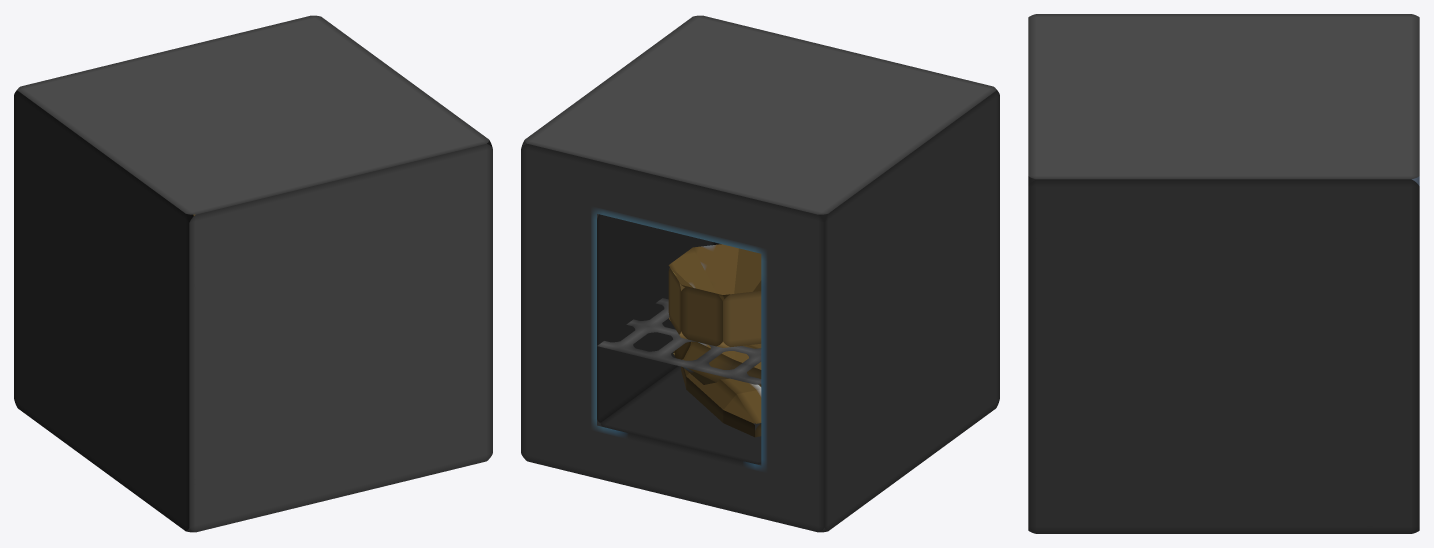
The model's file is Furnace.obj.
3 renders of one model, left to right at view 1: azimuth 30°, elevation 25°; view 2: azimuth 150°, elevation 25°; view 3: azimuth 270°, elevation 25°, orthographic. The views are drawn at different scales.
Parts seen in each view (by area): view 1: mesh; view 2: mesh, cylinder, beveled_cuboid, plane; view 3: mesh.
Part boxes in pixels (box(x1,y1,x2,y2)): mesh: box(14, 15, 492, 532); mesh: box(521, 15, 999, 532); cylinder: box(668, 244, 761, 347); beveled_cuboid: box(673, 341, 761, 437); plane: box(597, 298, 761, 384); mesh: box(1028, 14, 1419, 533).
Size of the model in its own units: 0.75 by 0.75 by 0.75.
1 material, 1 textured.
